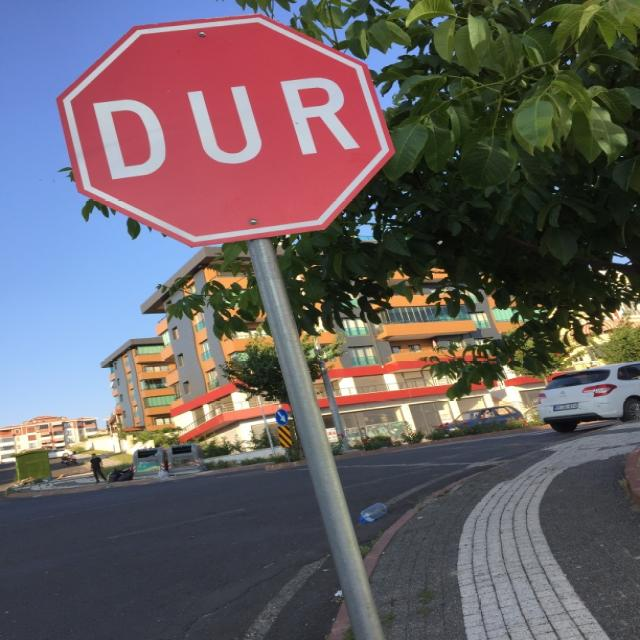dur: (55, 14, 398, 249)
